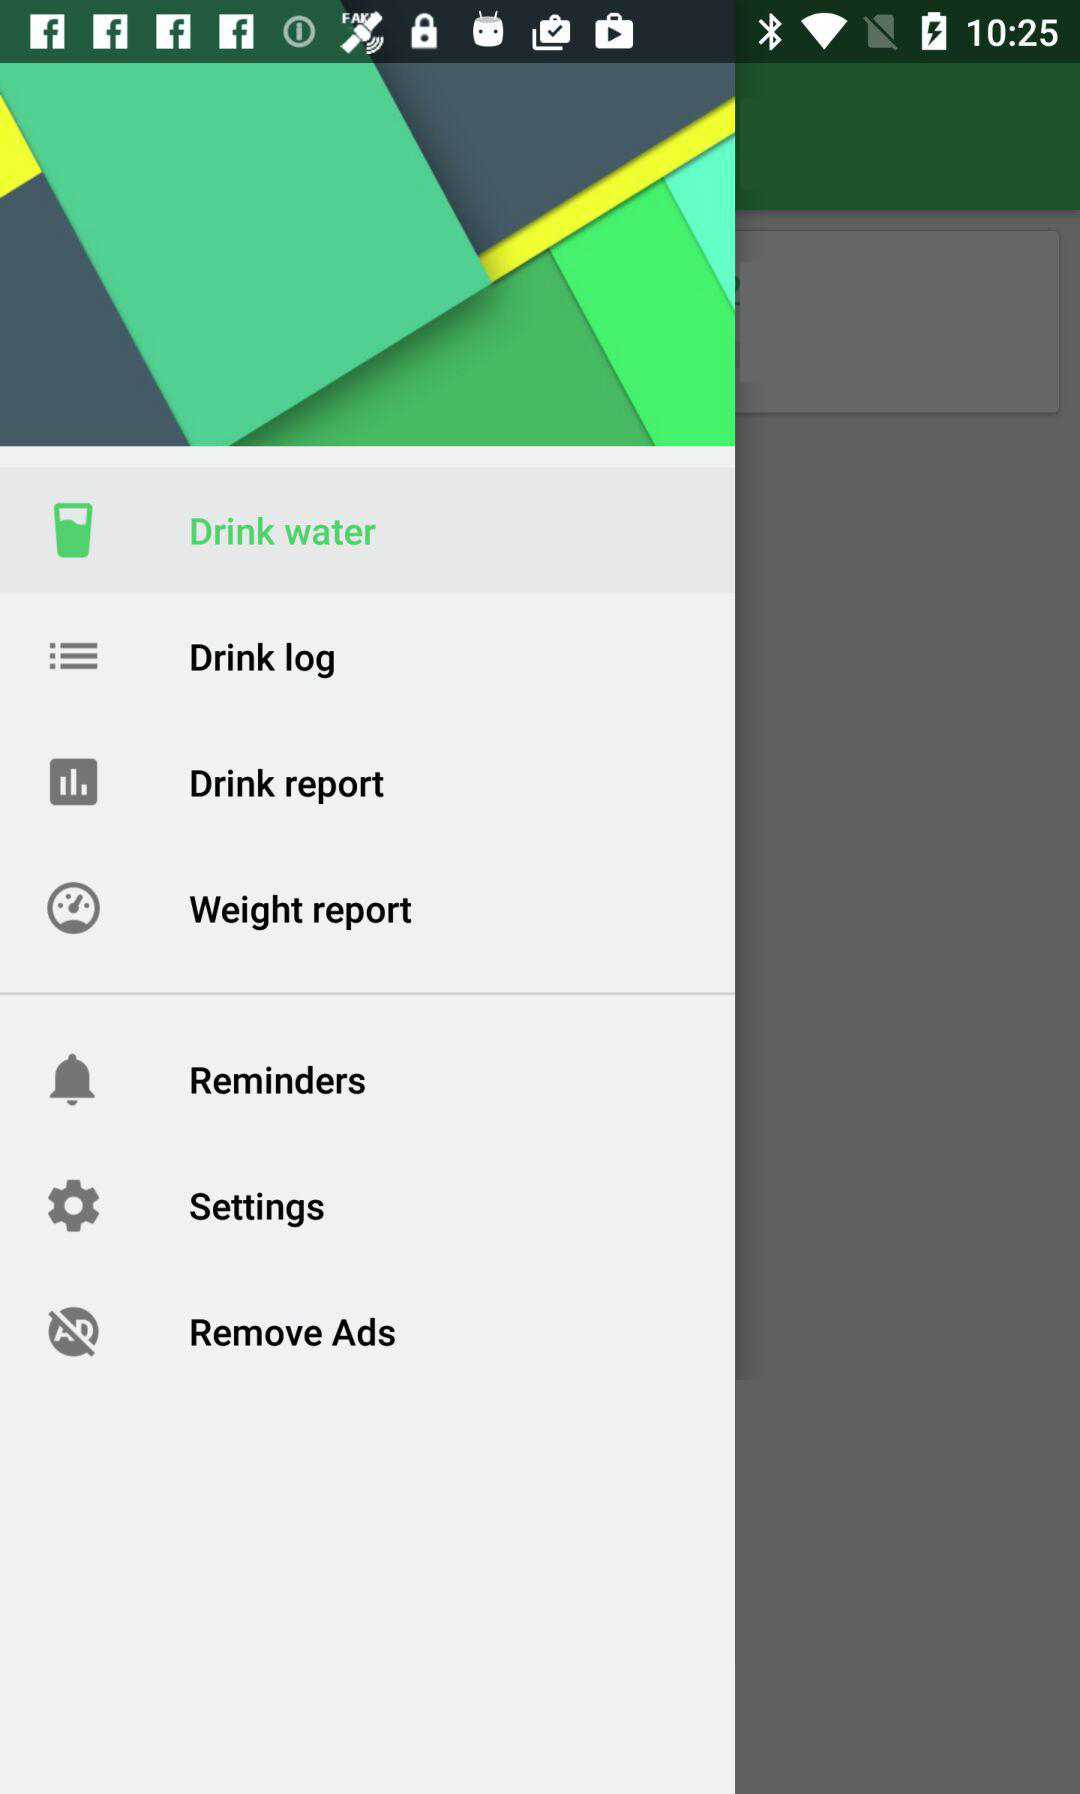Drawer: (1, 65, 735, 1794)
Icon: (47, 1179, 101, 1234), (49, 1052, 97, 1108), (49, 757, 99, 807), (49, 642, 100, 671)
Image: (47, 1304, 101, 1360), (47, 882, 102, 935), (53, 502, 95, 560)
Text: (190, 893, 414, 932), (190, 768, 386, 806), (190, 1315, 397, 1348), (191, 516, 378, 547), (191, 641, 336, 680), (190, 1064, 366, 1096), (190, 1190, 325, 1230)
UpperTaskBar: (1, 1, 1080, 64)
